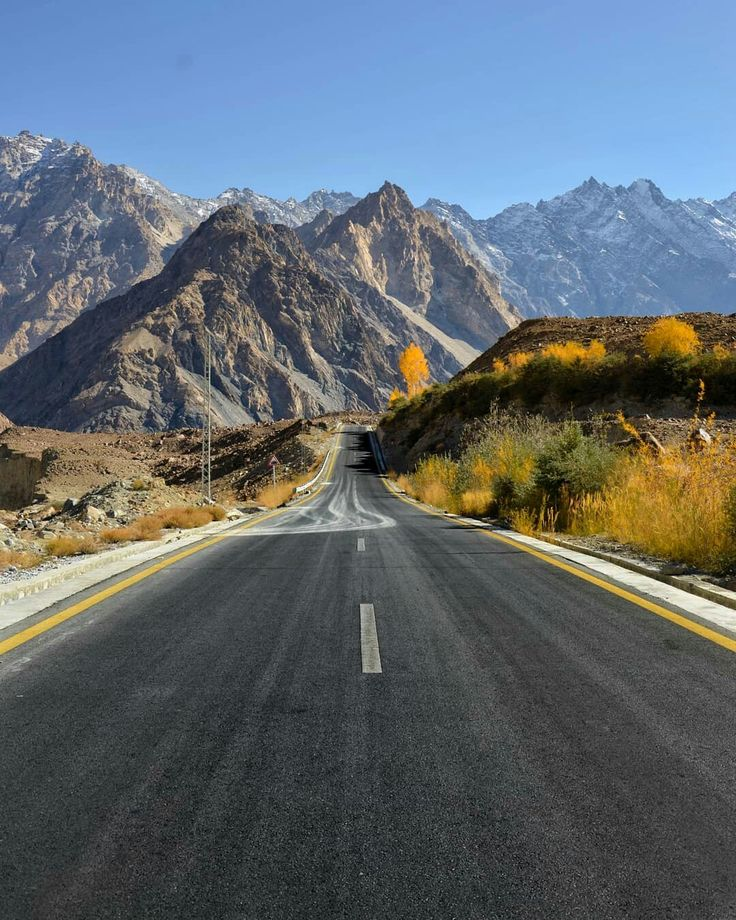straightRoad: (220, 490, 608, 855)
